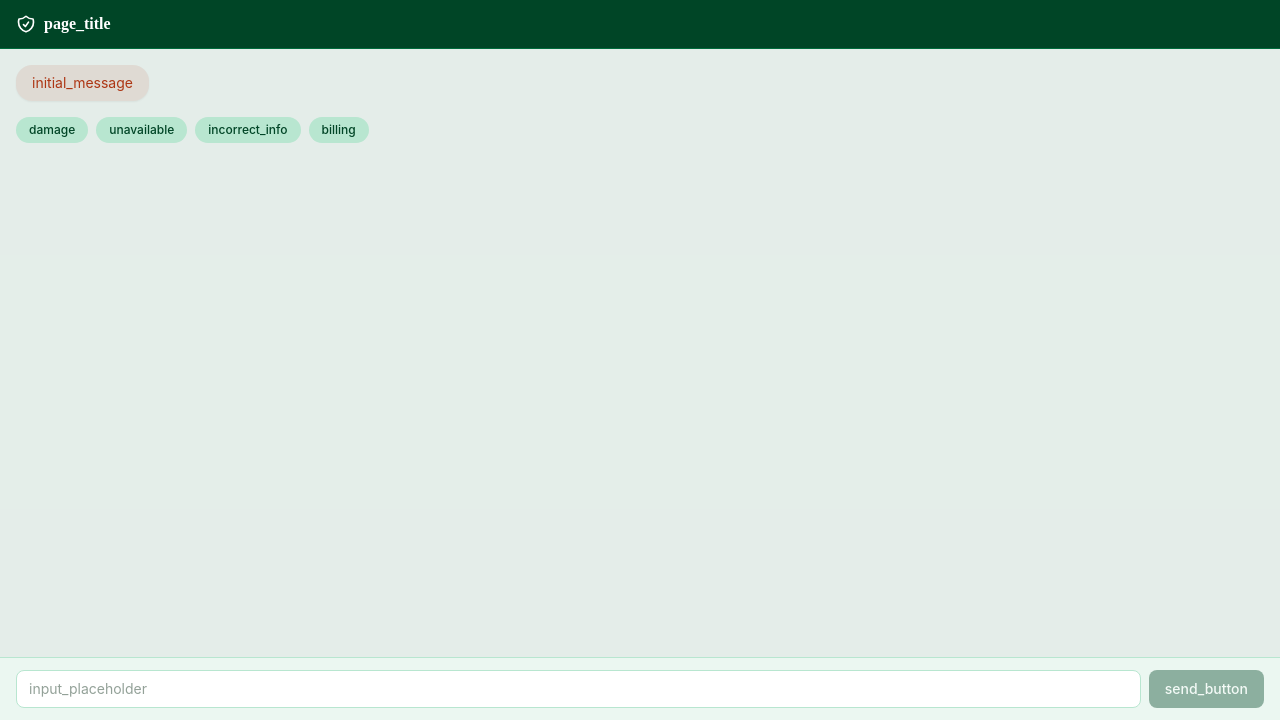
Test: Dispute message flow › after creating dispute, AI confirmation message appears with reference
This screenshot has width=1280, height=720.
Type "There is damage" into the field. click: (578, 689)
box: [16,670,1141,708]
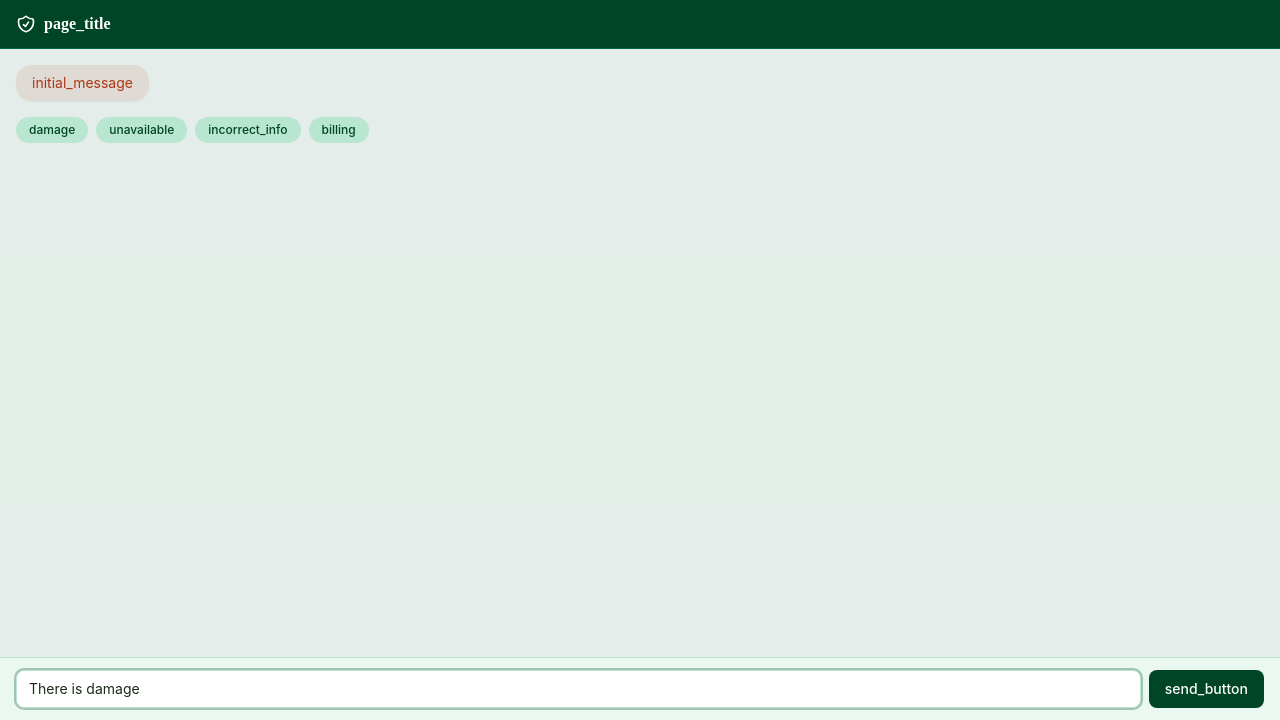
Press Enter
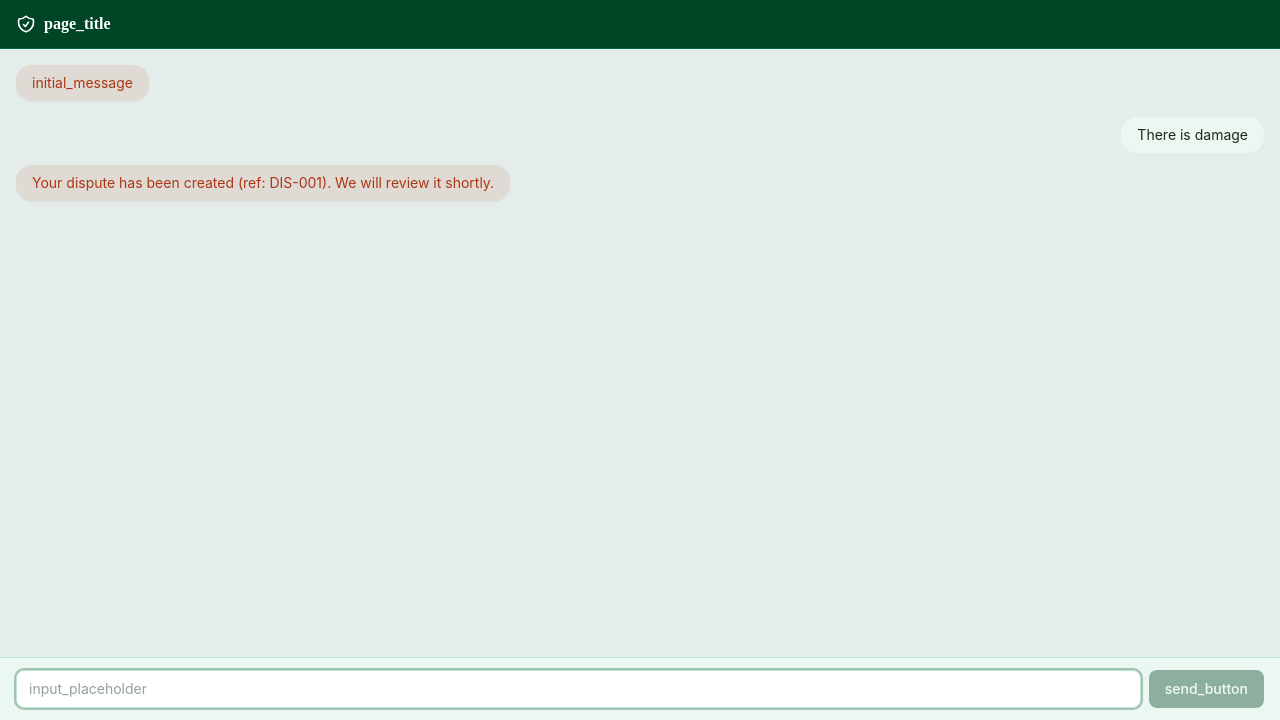
Expected: the text "DIS-001" is shown, [32,174,494,191]
